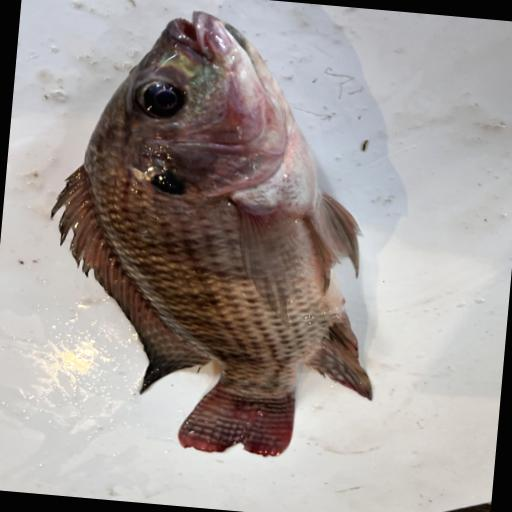Tilapia: (30, 0, 404, 466)
